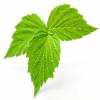Raspberry leaf: (26, 28, 62, 99), (47, 3, 99, 42), (4, 13, 47, 60)
